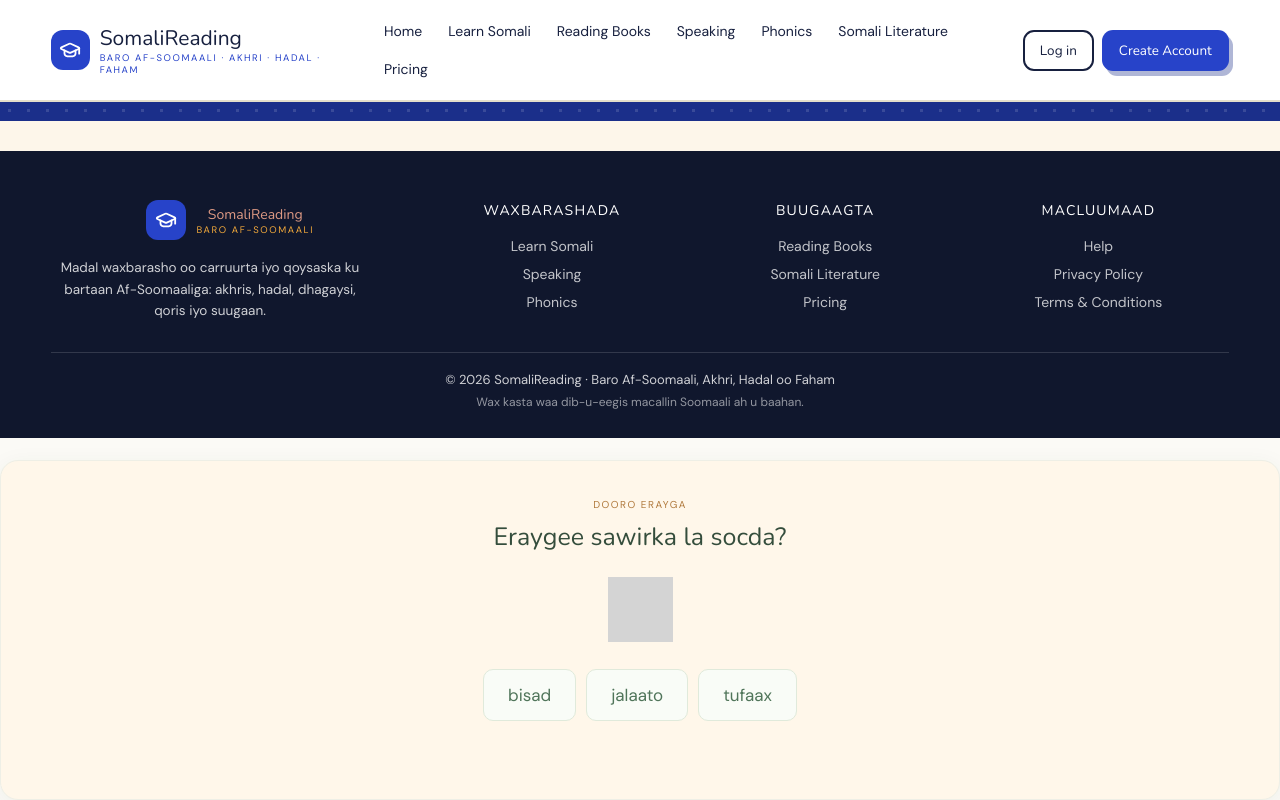
activity components › reports incorrect and correct picture matching
(page scrolled)
What coordinates should you click on to do the following:
click the button "tufaax"
I would click on:
 (748, 695)
Its box is [698,669,797,721].
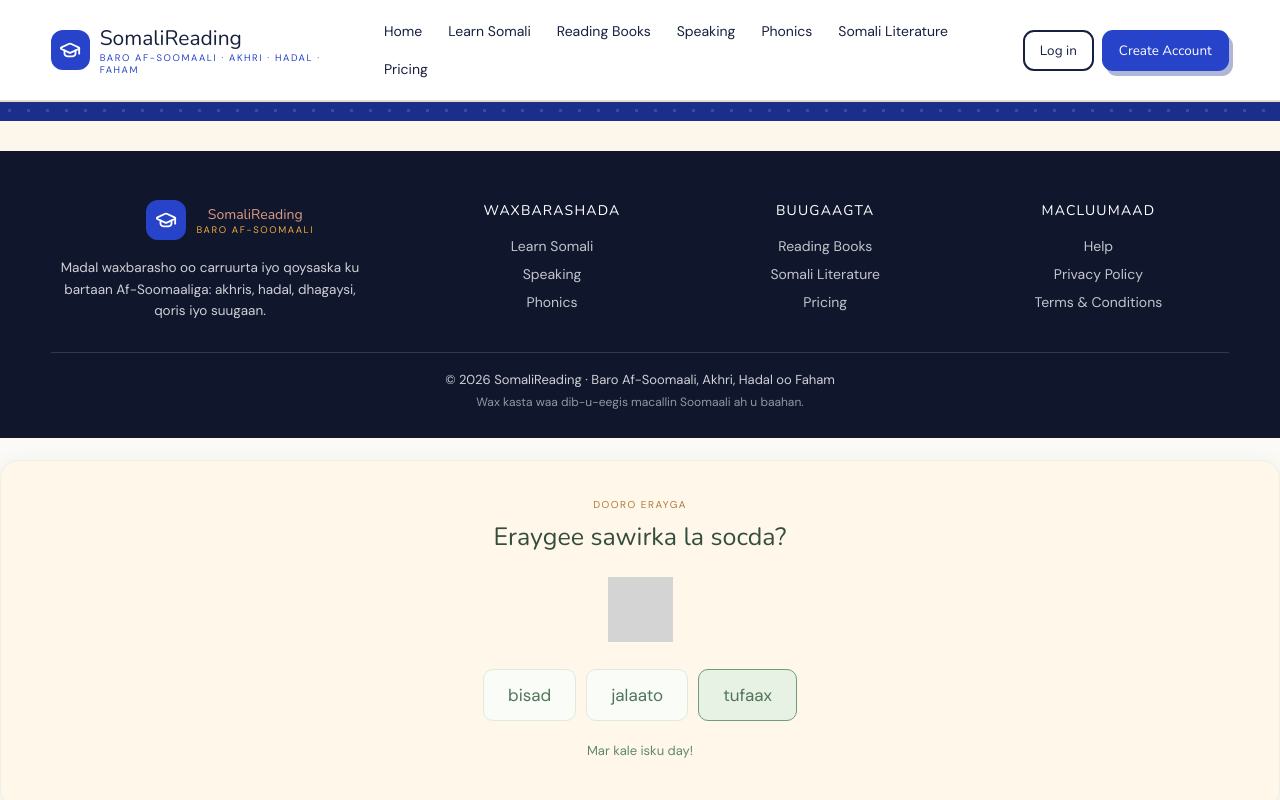
Expected: the message shows "Mar kale", [587,742,693,759]
What coordinates should you click on to do the following:
click the button "bisad"
I would click on:
 (530, 695)
Its box is [483,669,576,721].
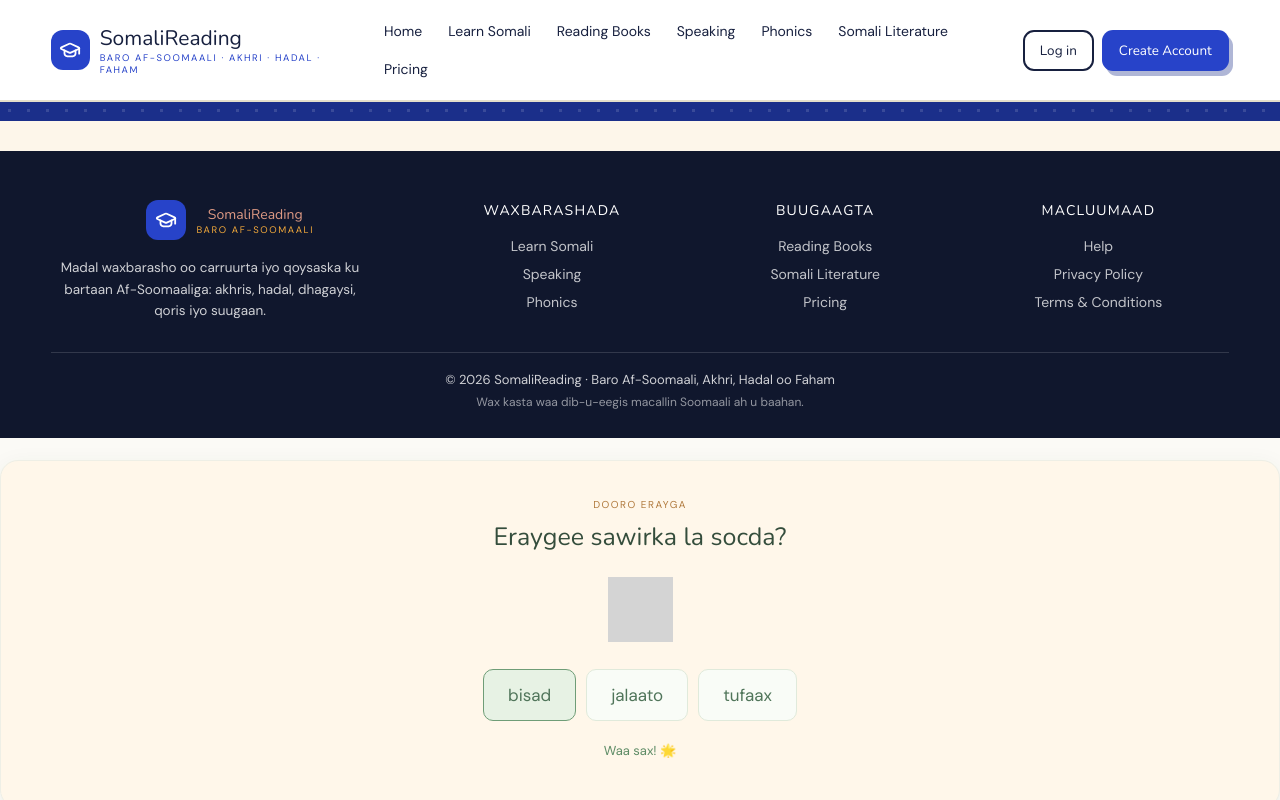
Expected: the message shows "Waa sax", [604,742,676,759]
